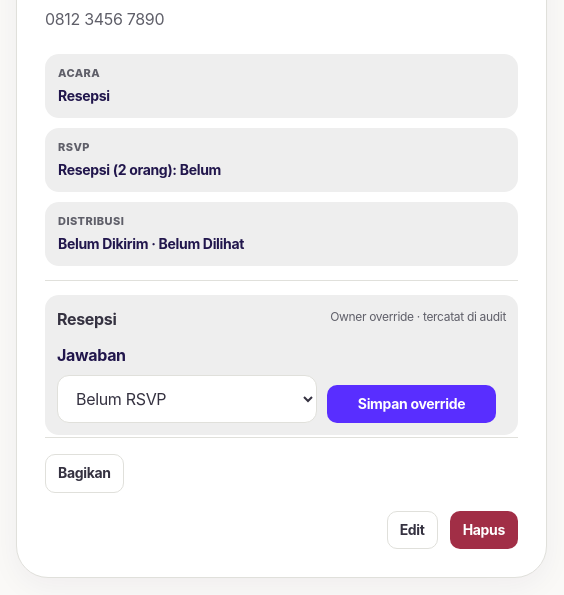
Test: GuestsManager › exposes the WF-12 personal message action for assigned guests
(page scrolled)
Click the button "Bagikan" at (84, 474), box top-left (45, 454), bottom-right (124, 493)
(page scrolled)
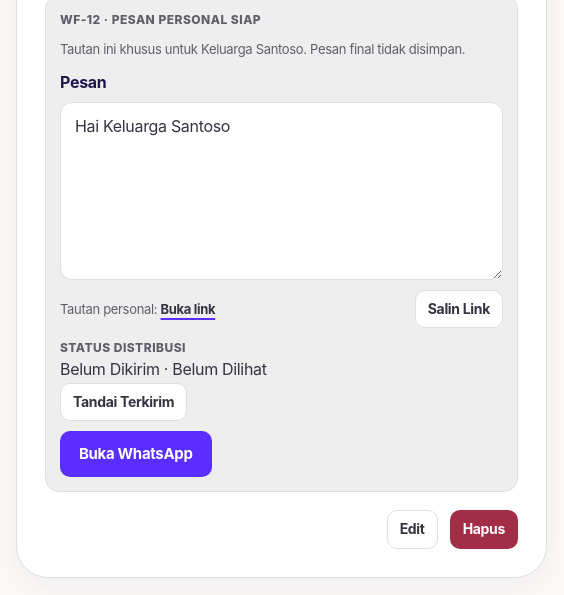
Expected: the button "Buka WhatsApp" is shown, top-left (60, 431), bottom-right (212, 477)
Expected: the button "Tandai Terkirim" is shown, top-left (60, 383), bottom-right (187, 421)
